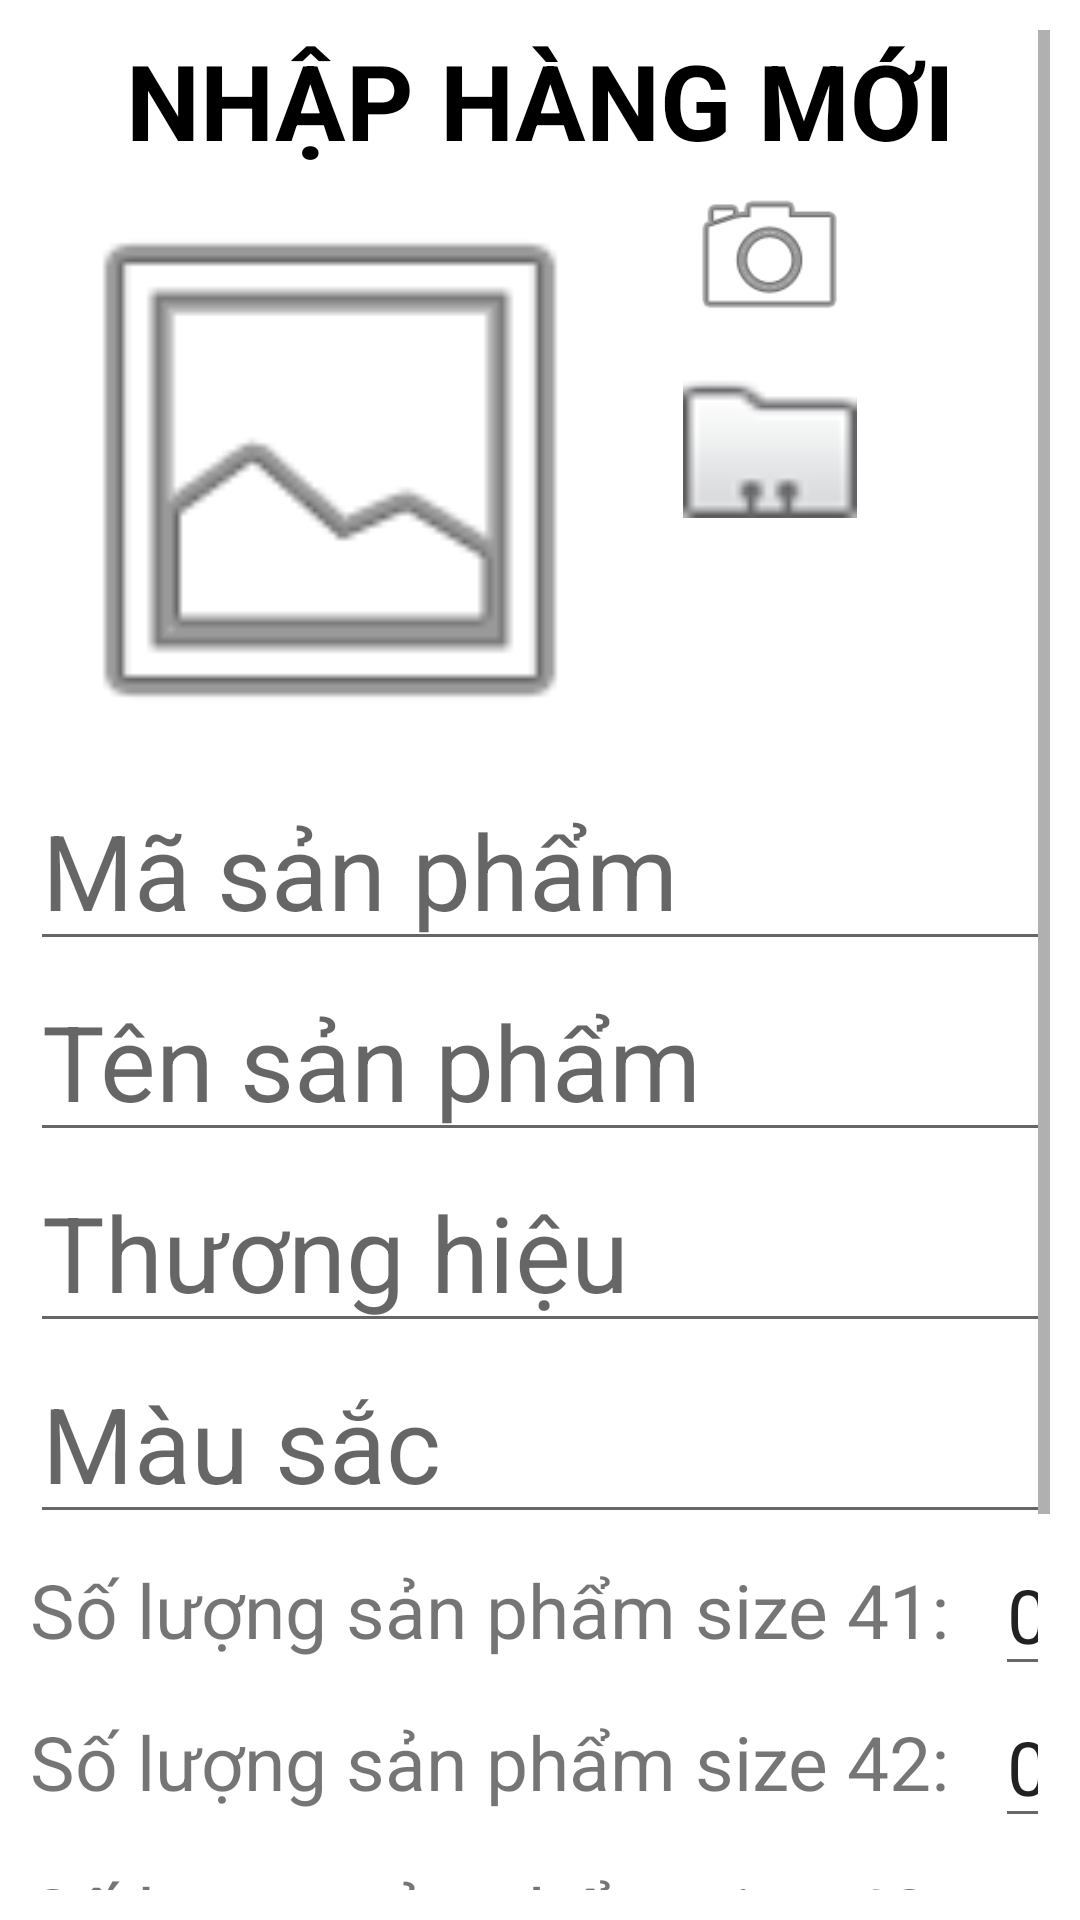

Where to tap for icons on this 1080px x 1920px app screen, as (x=x, y=y):
camera: (x=769, y=254)
